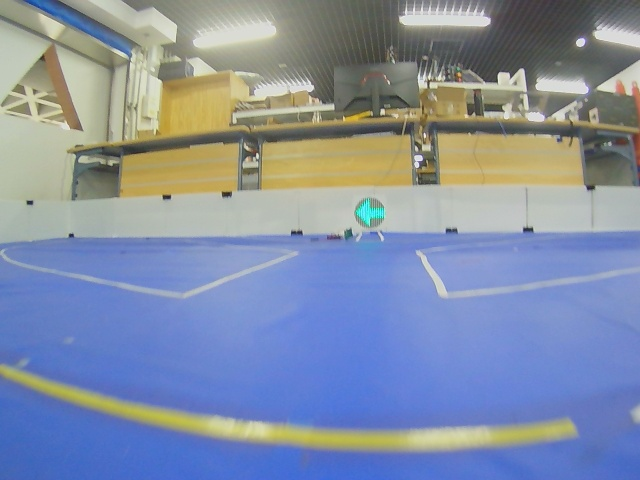left_green: (354, 198, 385, 228)
